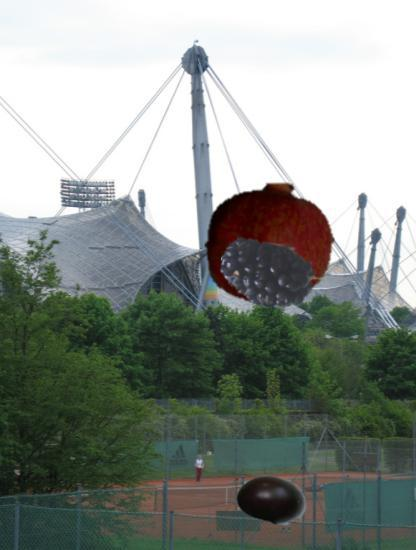Eggplant: (236, 464, 309, 537)
Mulberry: (218, 225, 325, 332)
Pomegranate: (205, 179, 335, 309)
